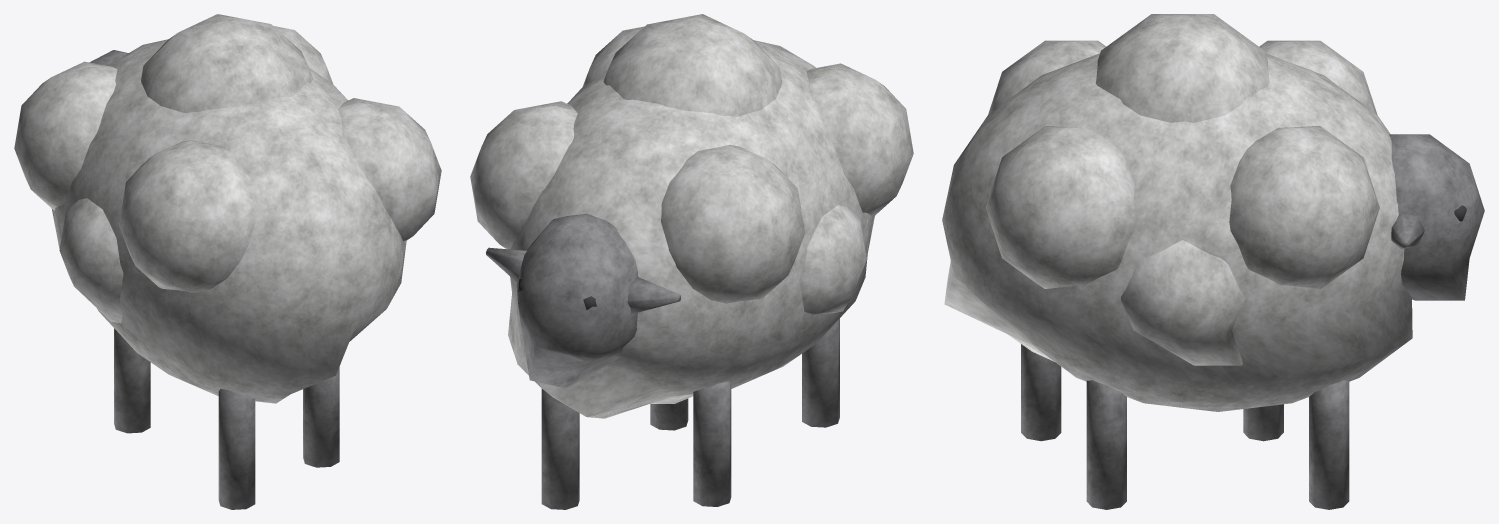
File: mob_domba_walk4.obj
3 views of the same model, side by side, from view 1: azimuth 30°, elevation 25°; view 2: azimuth 150°, elevation 25°; view 3: azimuth 270°, elevation 25° (orthographic). The views are drawn at different scales.
Parts seen in each view (by area): view 1: mob_domba; view 2: mob_domba; view 3: mob_domba.
Boxes of the visible parts, <box> form: mob_domba: <box>14,14,441,509</box>; mob_domba: <box>470,14,913,509</box>; mob_domba: <box>942,14,1484,509</box>.
Size of the model in its own units: 0.8371 by 1.08 by 1.17.
Materials: 1 (1 with a texture image).
